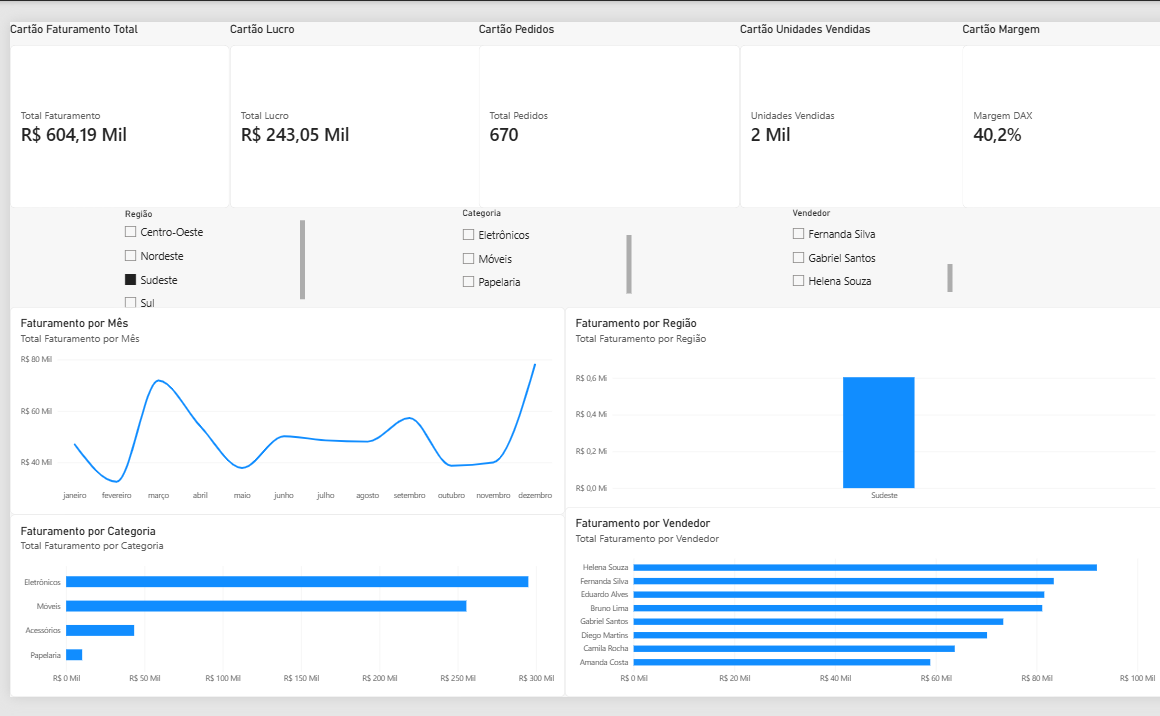

The page's visual inventory and layout, read from the dashboard file:
{"tool":"powerbi","page":{"name":"Página 1","canvas":[1920,1080],"ordinal":0},"visuals":[{"type":"cardVisual","title":"Cartão Faturamento Total","fields":{"Data":["Vendas_Tratadas1.Total Faturamento"]},"box":[0,0,352,298.5],"z":0},{"type":"cardVisual","title":"Cartão Lucro","fields":{"Data":["Vendas_Tratadas1.Total Lucro"]},"box":[352,0,418,298],"z":1000},{"type":"cardVisual","title":"Cartão Pedidos","fields":{"Data":["Vendas_Tratadas1.Total Pedidos"]},"box":[749.2,0,418,298],"z":2000},{"type":"cardVisual","title":"Cartão Unidades Vendidas","fields":{"Data":["Vendas_Tratadas1.Unidades Vendidas"]},"box":[1167.1,0,418,298],"z":3000},{"type":"cardVisual","title":"Cartão Margem","fields":{"Data":["Vendas_Tratadas1.Margem DAX"]},"box":[1524,0,326,298],"z":4000},{"type":"lineChart","title":"Faturamento por Mês","fields":{"Category":["Vendas_Tratadas1.Data_Pedido.Variation.Hierarquia de datas.Ano","Vendas_Tratadas1.Data_Pedido.Variation.Hierarquia de datas.Trimestre","Vendas_Tratadas1.Data_Pedido.Variation.Hierarquia de datas.Mês","Vendas_Tratadas1.Data_Pedido.Variation.Hierarquia de datas.Dia"],"Y":["Vendas_Tratadas1.Total Faturamento"]},"box":[0,456,888,332],"z":5000},{"type":"clusteredColumnChart","title":"Faturamento por Região","fields":{"Category":["Vendas_Tratadas1.Região"],"Y":["Vendas_Tratadas1.Total Faturamento"]},"box":[888,456,962,332],"z":6000},{"type":"clusteredBarChart","title":"Faturamento por Categoria","fields":{"Category":["Vendas_Tratadas1.Categoria"],"Y":["Vendas_Tratadas1.Total Faturamento"]},"box":[0,788,888,292],"z":7000},{"type":"clusteredBarChart","title":"Faturamento por Vendedor","fields":{"Category":["Vendas_Tratadas1.Vendedor"],"Y":["Vendas_Tratadas1.Total Faturamento"]},"box":[888,776,962,304],"z":8000},{"type":"slicer","fields":{"Values":["Vendas_Tratadas1.Região"]},"box":[176,298,296,158],"z":9000},{"type":"slicer","fields":{"Values":["Vendas_Tratadas1.Categoria"]},"box":[716,296,278,138],"z":10000},{"type":"slicer","fields":{"Values":["Vendas_Tratadas1.Vendedor"]},"box":[1244,296,264,136],"z":11000}]}

Visuals, with their boxes on the page's 1920x1080 design canvas (x1, y1, x2, y2). These are canvas units, not pixel positions in the 1160x716 screenshot, which may show the page scaled, cropped or inside an application window:
"Cartão Faturamento Total" cardVisual: box(0, 0, 352, 298)
"Cartão Lucro" cardVisual: box(352, 0, 770, 298)
"Cartão Pedidos" cardVisual: box(749, 0, 1167, 298)
"Cartão Unidades Vendidas" cardVisual: box(1167, 0, 1585, 298)
"Cartão Margem" cardVisual: box(1524, 0, 1850, 298)
"Faturamento por Mês" lineChart: box(0, 456, 888, 788)
"Faturamento por Região" clusteredColumnChart: box(888, 456, 1850, 788)
"Faturamento por Categoria" clusteredBarChart: box(0, 788, 888, 1080)
"Faturamento por Vendedor" clusteredBarChart: box(888, 776, 1850, 1080)
slicer - Vendas_Tratadas1.Região: box(176, 298, 472, 456)
slicer - Vendas_Tratadas1.Categoria: box(716, 296, 994, 434)
slicer - Vendas_Tratadas1.Vendedor: box(1244, 296, 1508, 432)
